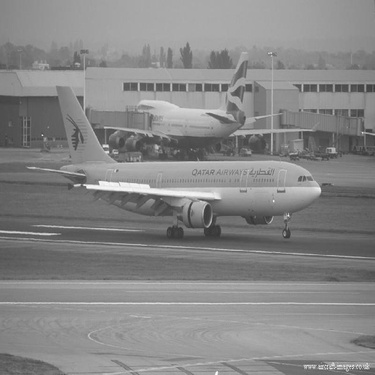airplane: (14, 40, 336, 253), (75, 47, 320, 160)
